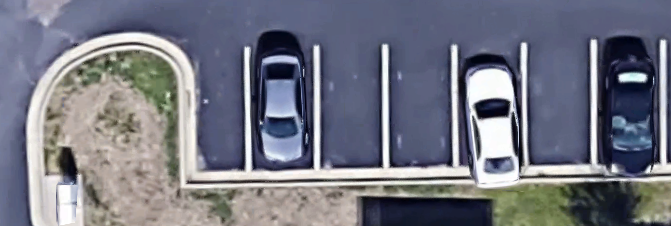Occupied: (248, 44, 317, 175), (455, 43, 526, 170), (593, 40, 664, 167)
Vacant: (315, 44, 385, 173), (524, 40, 594, 169), (385, 45, 455, 171), (188, 45, 248, 174)
